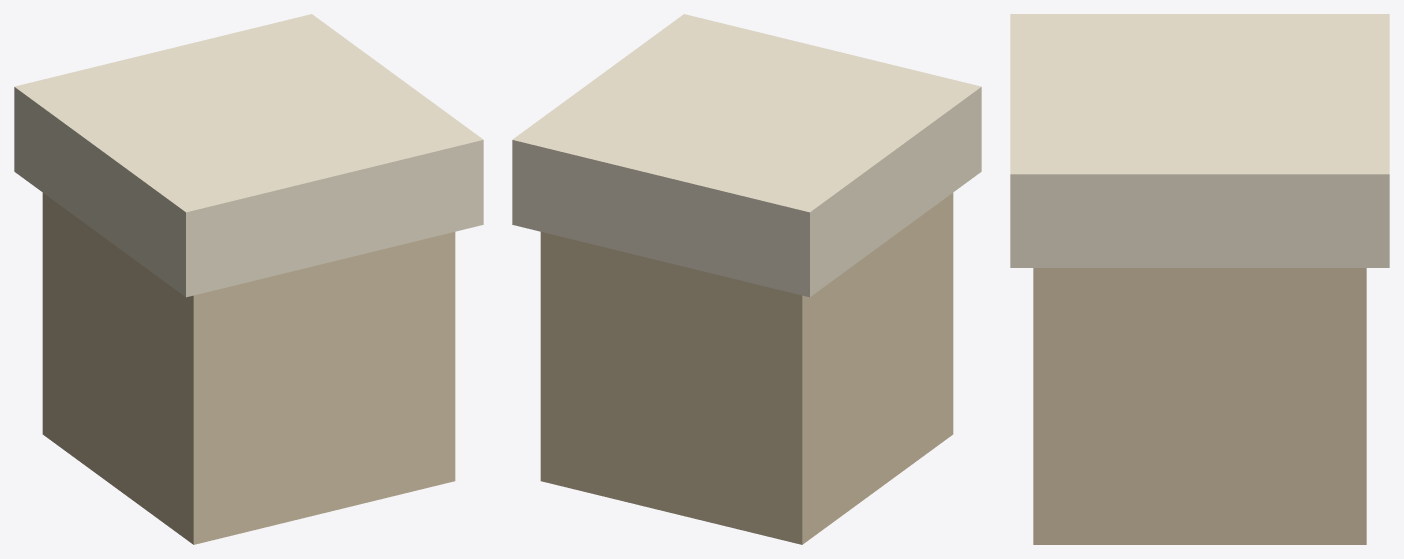
File: viking_peles_manga_sup.glb
The picture shows the model from 3 angles, left to right: view 1: azimuth 30°, elevation 25°; view 2: azimuth 150°, elevation 25°; view 3: azimuth 270°, elevation 25°; orthographic projection. The views are drawn at different scales.
Visible parts, largest first — view 1: viking_peles_manga_sup; view 2: viking_peles_manga_sup; view 3: viking_peles_manga_sup.
Part boxes in pixels (x1=…): viking_peles_manga_sup: x1=14, y1=14, x2=483, y2=544; viking_peles_manga_sup: x1=512, y1=14, x2=981, y2=544; viking_peles_manga_sup: x1=1010, y1=14, x2=1389, y2=544.
Bounding box in the file's own units: 0.33 × 0.365 × 0.33.
